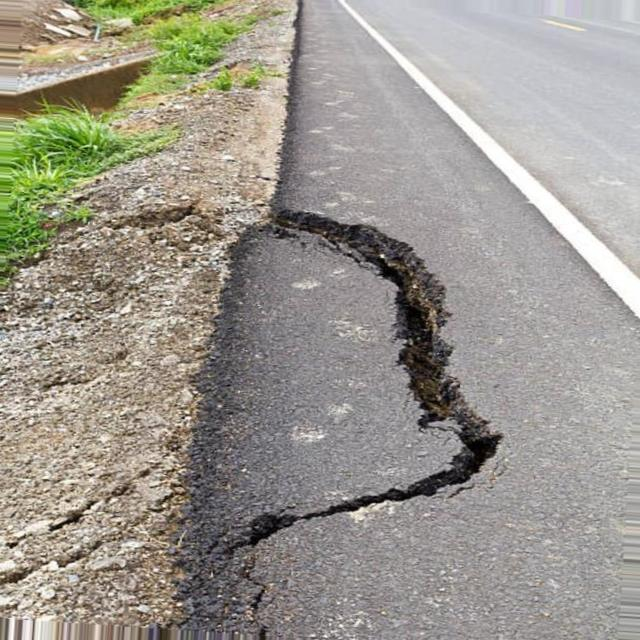Pinggir: (144, 208, 516, 553)
